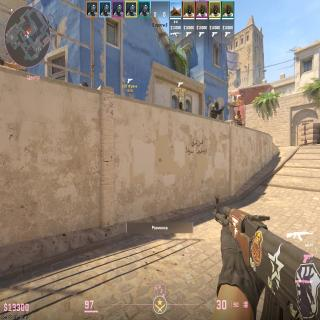CT-Body: (210, 101, 219, 118)
CT-Head: (82, 80, 89, 87), (214, 101, 219, 109)
T-Body: (235, 110, 242, 125)
T-Head: (179, 102, 183, 108), (237, 110, 240, 116)
